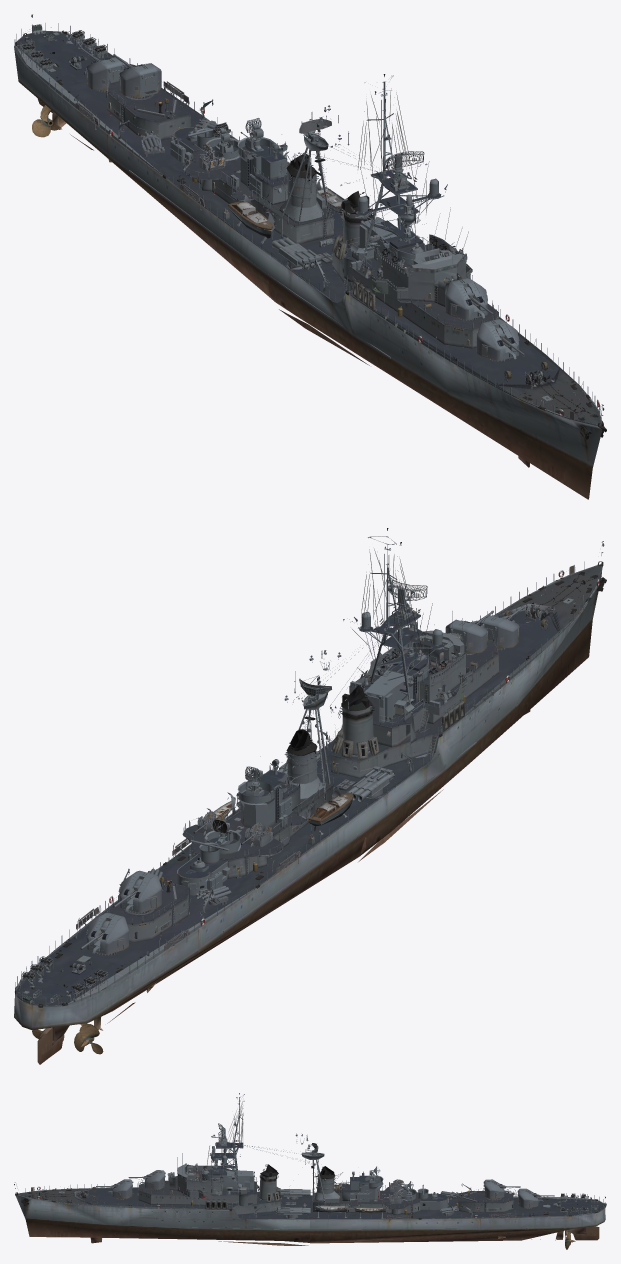
File: destroyer.glb
The picture shows the model from 3 angles, top to bottom: view 1: azimuth 30°, elevation 25°; view 2: azimuth 150°, elevation 25°; view 3: azimuth 270°, elevation 25°; orthographic projection. The views are drawn at different scales.
Parts seen in each view (by area): view 1: fsd306_cassard_1955_stern_1_40bbb029_5620_4483_aa48_b49f63fc, vehicle_ex_armor_04_29_841f782d_8e5e_4f4b_8cc2_3e201289a3e2_, vehicle_ex_decor_26_104_15757509_9258_4be7_9a6d_cc03783cd5d8, fsd306_cassard_1955_midback_39_1b495387_3c38_4f25_bc6c_a3dca, vehicle_ex_armor_04_29_63c23107_8900_4a8d_8809_b42eaf0d517b_, vehicle_gun_barrel_01_16_3bf95b54_555d_47e6_8454_8e902968116, fgb074_depth_charge_thrower_opposite_2_badb0e32_2a55_4da8_9b, vehicle_mast_01_41_e7170883_efa1_4e54_a1ae_23c7223ff002_0, fgt2004_550mm_3tube_mle_1955_r_24_e499868a_fcfd_4d5e_82fe_64, fm535_96_d68ca754_f5cd_4a91_921f_f30c13114314_0, fm526_135_bfe22af8_3ca1_4608_8120_b7d14d8667fe_0; view 2: fsd306_cassard_1955_stern_1_40bbb029_5620_4483_aa48_b49f63fc, vehicle_ex_armor_04_29_841f782d_8e5e_4f4b_8cc2_3e201289a3e2_, vehicle_ex_decor_26_104_15757509_9258_4be7_9a6d_cc03783cd5d8, fsd306_cassard_1955_midback_39_1b495387_3c38_4f25_bc6c_a3dca, vehicle_ex_armor_04_29_63c23107_8900_4a8d_8809_b42eaf0d517b_, vehicle_gun_barrel_01_16_3bf95b54_555d_47e6_8454_8e902968116, fm526_135_bfe22af8_3ca1_4608_8120_b7d14d8667fe_0, fgb074_depth_charge_thrower_opposite_2_badb0e32_2a55_4da8_9b, fgt2004_550mm_3tube_mle_1955_r_24_e499868a_fcfd_4d5e_82fe_64, fm535_96_d68ca754_f5cd_4a91_921f_f30c13114314_0, vehicle_mast_01_41_e7170883_efa1_4e54_a1ae_23c7223ff002_0; view 3: fsd306_cassard_1955_stern_1_40bbb029_5620_4483_aa48_b49f63fc, vehicle_ex_armor_04_29_841f782d_8e5e_4f4b_8cc2_3e201289a3e2_, vehicle_ex_decor_26_104_15757509_9258_4be7_9a6d_cc03783cd5d8, fsd306_cassard_1955_midback_39_1b495387_3c38_4f25_bc6c_a3dca, vehicle_ex_armor_04_29_63c23107_8900_4a8d_8809_b42eaf0d517b_, vehicle_gun_barrel_01_16_3bf95b54_555d_47e6_8454_8e902968116, fm526_135_bfe22af8_3ca1_4608_8120_b7d14d8667fe_0, fgb074_depth_charge_thrower_opposite_2_badb0e32_2a55_4da8_9b, fgt2003_550mm_3tube_mle_1955_l_23_713e11e4_34dd_42bb_a09d_7f, fm521_88_de8a9859_22b4_455e_b8eb_6fbb67d1a756_0, fgt2004_550mm_3tube_mle_1955_r_24_e499868a_fcfd_4d5e_82fe_64, vehicle_mast_01_41_e7170883_efa1_4e54_a1ae_23c7223ff002_0 (+1 smaller).
Boxes of the visible parts, x1,y1,x2,y2 form: fsd306_cassard_1955_stern_1_40bbb029_5620_4483_aa48_b49f63fc: (14, 14, 604, 499); vehicle_ex_armor_04_29_841f782d_8e5e_4f4b_8cc2_3e201289a3e2_: (169, 75, 447, 264); vehicle_ex_decor_26_104_15757509_9258_4be7_9a6d_cc03783cd5d8: (80, 47, 525, 361); fsd306_cassard_1955_midback_39_1b495387_3c38_4f25_bc6c_a3dca: (255, 132, 348, 237); vehicle_ex_armor_04_29_63c23107_8900_4a8d_8809_b42eaf0d517b_: (174, 127, 441, 254); vehicle_gun_barrel_01_16_3bf95b54_555d_47e6_8454_8e902968116: (90, 57, 516, 360); fgb074_depth_charge_thrower_opposite_2_badb0e32_2a55_4da8_9b: (19, 30, 107, 71); vehicle_mast_01_41_e7170883_efa1_4e54_a1ae_23c7223ff002_0: (348, 88, 429, 241); fgt2004_550mm_3tube_mle_1955_r_24_e499868a_fcfd_4d5e_82fe_64: (272, 237, 321, 269); fm535_96_d68ca754_f5cd_4a91_921f_f30c13114314_0: (227, 201, 272, 238); fm526_135_bfe22af8_3ca1_4608_8120_b7d14d8667fe_0: (331, 231, 375, 310); fsd306_cassard_1955_stern_1_40bbb029_5620_4483_aa48_b49f63fc: (14, 541, 604, 1064); vehicle_ex_armor_04_29_841f782d_8e5e_4f4b_8cc2_3e201289a3e2_: (177, 536, 449, 895); vehicle_ex_decor_26_104_15757509_9258_4be7_9a6d_cc03783cd5d8: (80, 605, 525, 955); fsd306_cassard_1955_midback_39_1b495387_3c38_4f25_bc6c_a3dca: (282, 692, 348, 810); vehicle_ex_armor_04_29_63c23107_8900_4a8d_8809_b42eaf0d517b_: (178, 612, 444, 878); vehicle_gun_barrel_01_16_3bf95b54_555d_47e6_8454_8e902968116: (88, 615, 514, 953); fm526_135_bfe22af8_3ca1_4608_8120_b7d14d8667fe_0: (332, 701, 464, 759); fgb074_depth_charge_thrower_opposite_2_badb0e32_2a55_4da8_9b: (20, 956, 107, 999); fgt2004_550mm_3tube_mle_1955_r_24_e499868a_fcfd_4d5e_82fe_64: (346, 766, 394, 802); fm535_96_d68ca754_f5cd_4a91_921f_f30c13114314_0: (308, 792, 353, 830); vehicle_mast_01_41_e7170883_efa1_4e54_a1ae_23c7223ff002_0: (352, 549, 432, 659); fsd306_cassard_1955_stern_1_40bbb029_5620_4483_aa48_b49f63fc: (14, 1133, 606, 1245); vehicle_ex_armor_04_29_841f782d_8e5e_4f4b_8cc2_3e201289a3e2_: (202, 1094, 448, 1209); vehicle_ex_decor_26_104_15757509_9258_4be7_9a6d_cc03783cd5d8: (96, 1170, 554, 1208); fsd306_cassard_1955_midback_39_1b495387_3c38_4f25_bc6c_a3dca: (301, 1151, 360, 1205); vehicle_ex_armor_04_29_63c23107_8900_4a8d_8809_b42eaf0d517b_: (202, 1142, 447, 1201); vehicle_gun_barrel_01_16_3bf95b54_555d_47e6_8454_8e902968116: (107, 1170, 543, 1203); fm526_135_bfe22af8_3ca1_4608_8120_b7d14d8667fe_0: (205, 1187, 280, 1209); fgb074_depth_charge_thrower_opposite_2_badb0e32_2a55_4da8_9b: (560, 1193, 588, 1214); fgt2003_550mm_3tube_mle_1955_l_23_713e11e4_34dd_42bb_a09d_7f: (276, 1206, 310, 1215); fm521_88_de8a9859_22b4_455e_b8eb_6fbb67d1a756_0: (314, 1205, 349, 1212); fgt2004_550mm_3tube_mle_1955_r_24_e499868a_fcfd_4d5e_82fe_64: (279, 1188, 310, 1197); vehicle_mast_01_41_e7170883_efa1_4e54_a1ae_23c7223ff002_0: (206, 1101, 243, 1167).
Bounding box in the file's own units: 0.2184 × 0.6075 × 2.18.
Materials: 58 (57 with a texture image).
